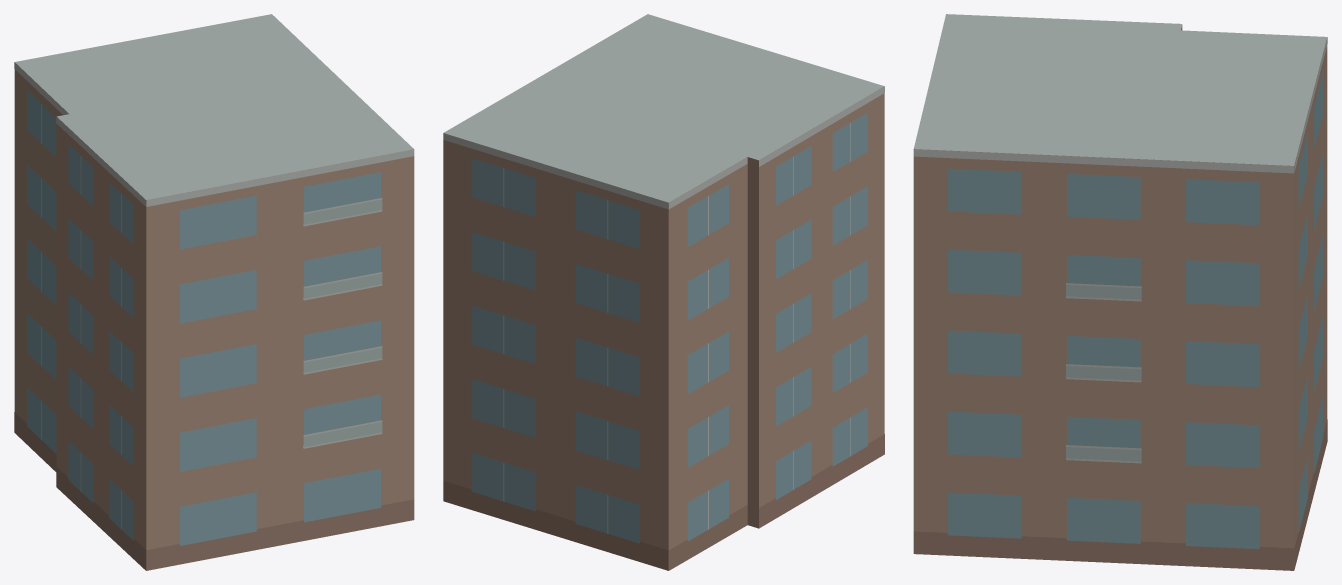
Rendered from survey-upis-32567174.glb.
3 renders of one model, left to right at view 1: azimuth 30°, elevation 25°; view 2: azimuth 150°, elevation 25°; view 3: azimuth 270°, elevation 25°, orthographic. The views are drawn at different scales.
Visible parts, largest first — view 1: survey-upis-32567174.tmp; view 2: survey-upis-32567174.tmp; view 3: survey-upis-32567174.tmp.
Boxes of the visible parts, left/top/right/bottom form: survey-upis-32567174.tmp: left=14, top=14, right=414, bottom=570; survey-upis-32567174.tmp: left=443, top=14, right=884, bottom=570; survey-upis-32567174.tmp: left=913, top=14, right=1327, bottom=570.
Size of the model in its own units: 10.63 by 13.2 by 12.23.
